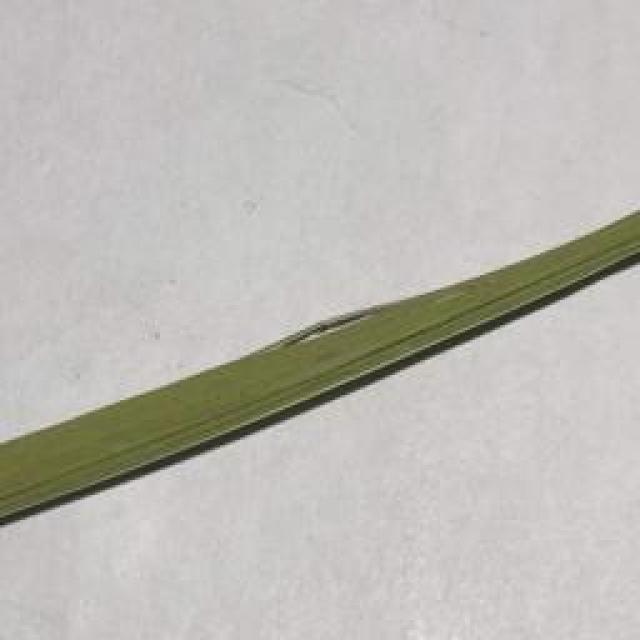Healthy-Plant: (0, 204, 640, 531)
